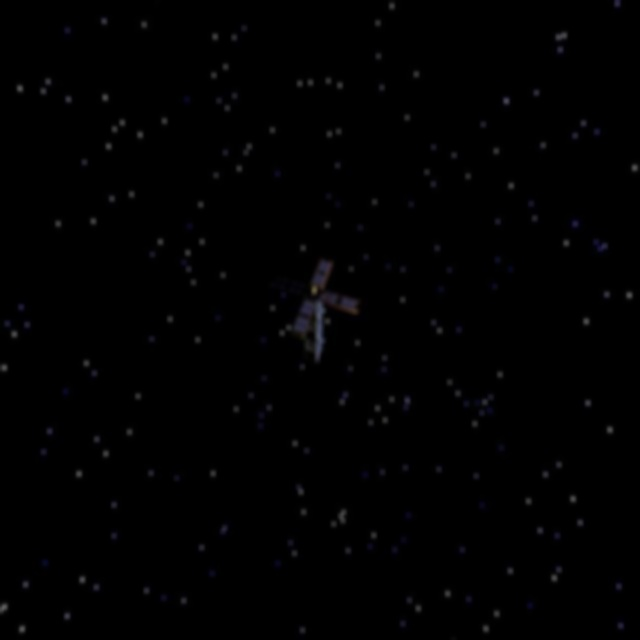satellite: (280, 251, 364, 365)
